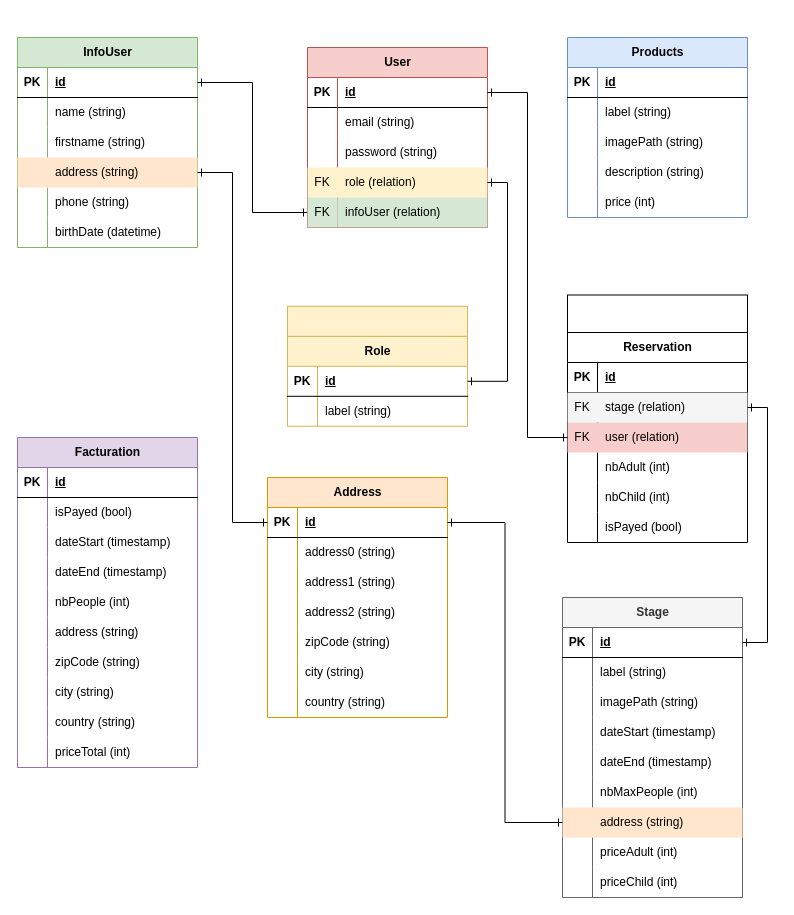
The diagram is 794 pixels wide and 915 high, and some of its shapes have lost their labels. Here are the shapes that lost their labels. From the top down, the centre of each, then its label:
At point (377, 320): "label = admin, client".
At point (657, 313): "utiliser un thread pour gérer le isPayed avec un timeur".
